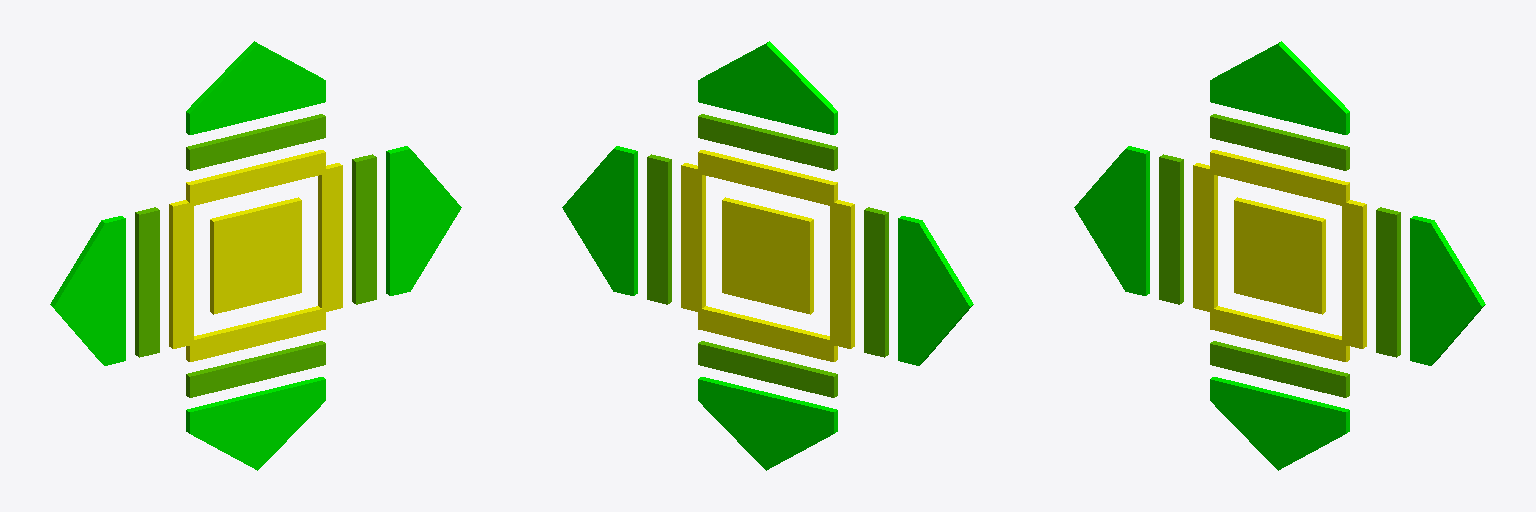
The model's file is arrow.obj.
The picture shows the model from 3 angles: view 1: azimuth 30°, elevation 25°; view 2: azimuth 150°, elevation 25°; view 3: azimuth 330°, elevation 25°; orthographic projection.
Parts seen in each view (by area): view 1: Cube.002_Cube.003, Cube; view 2: Cube.002_Cube.003, Cube; view 3: Cube.002_Cube.003, Cube.
Part boxes in pixels (bbox=[...]): Cube.002_Cube.003: bbox=[50, 41, 461, 470]; Cube: bbox=[210, 197, 301, 314]; Cube.002_Cube.003: bbox=[562, 41, 973, 470]; Cube: bbox=[722, 197, 813, 314]; Cube.002_Cube.003: bbox=[1074, 41, 1485, 470]; Cube: bbox=[1234, 197, 1325, 314].
Bounding box in the file's own units: 23.93 × 23.93 × 0.4.